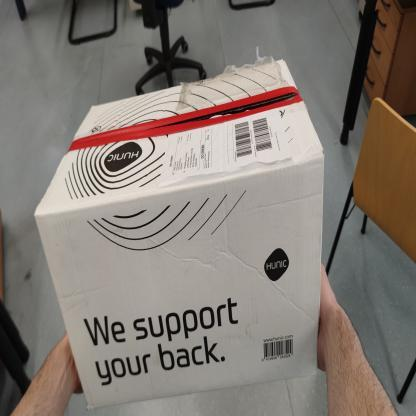-: (26, 50, 348, 405)
